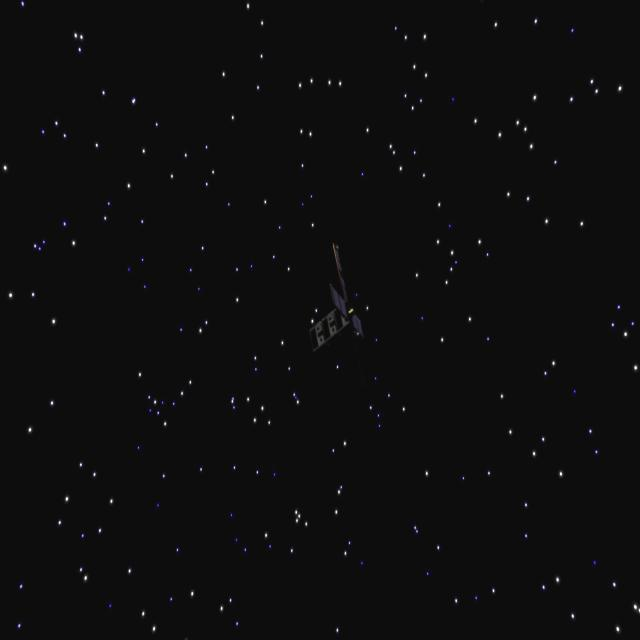medium_debris: (304, 251, 384, 359)
